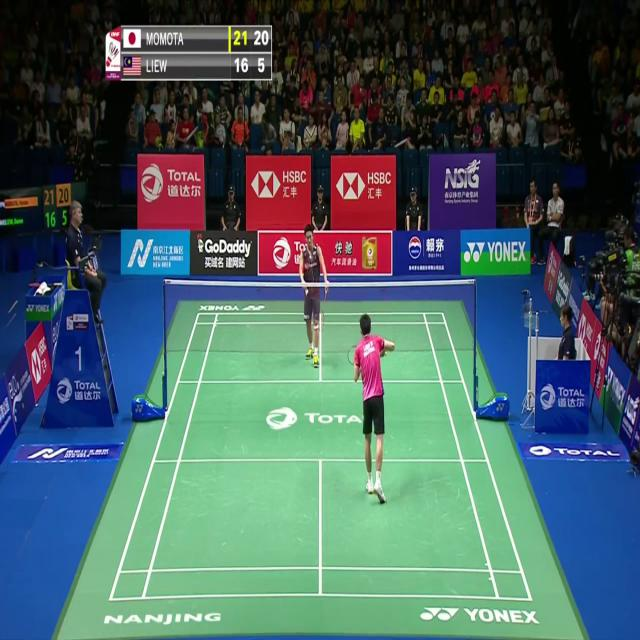Shuttlecock: (304, 284, 310, 296)
